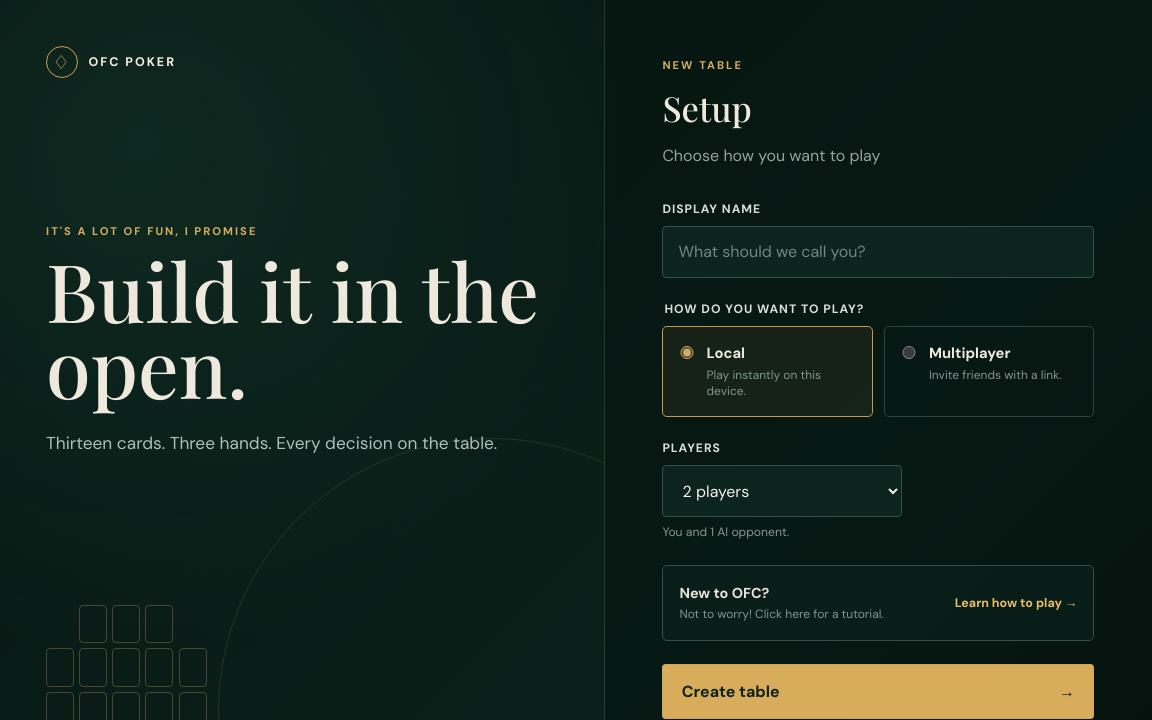
Test: creates a local AI lobby through explicit provider wiring
Type " Ada " into the field labelled "Display name" at (878, 252), box [662,226,1094,278]
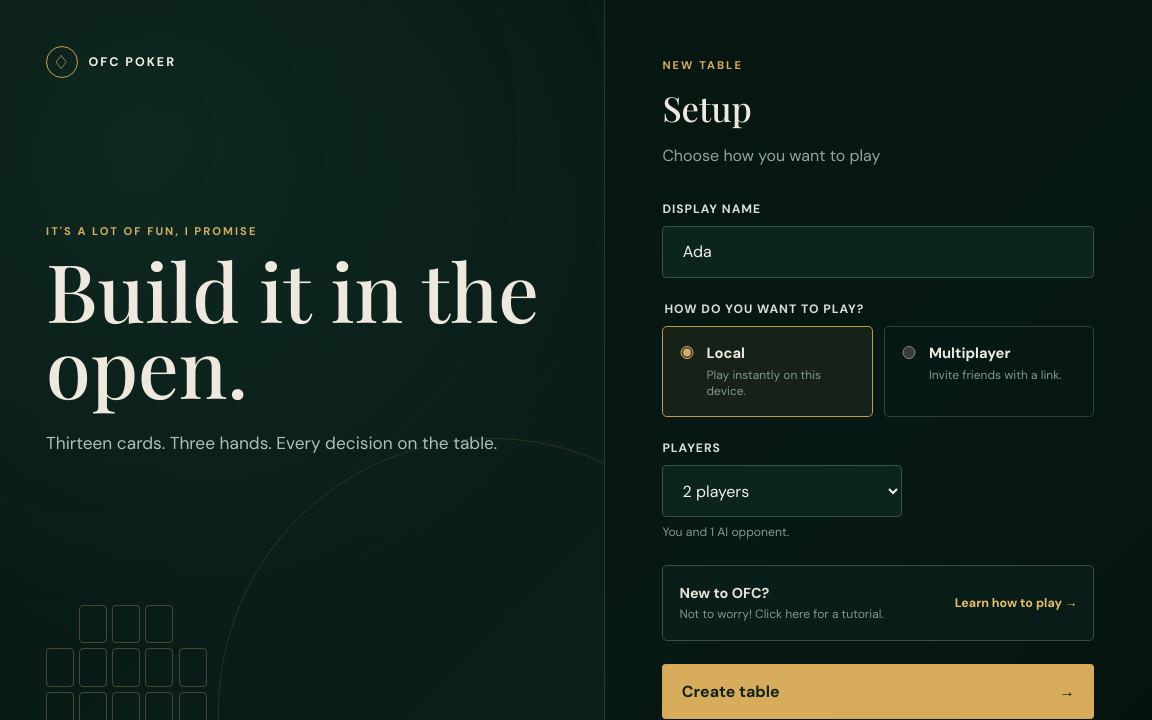
Select "4 players" in the dropdown labelled "Players" at (782, 491), box [662,465,902,517]
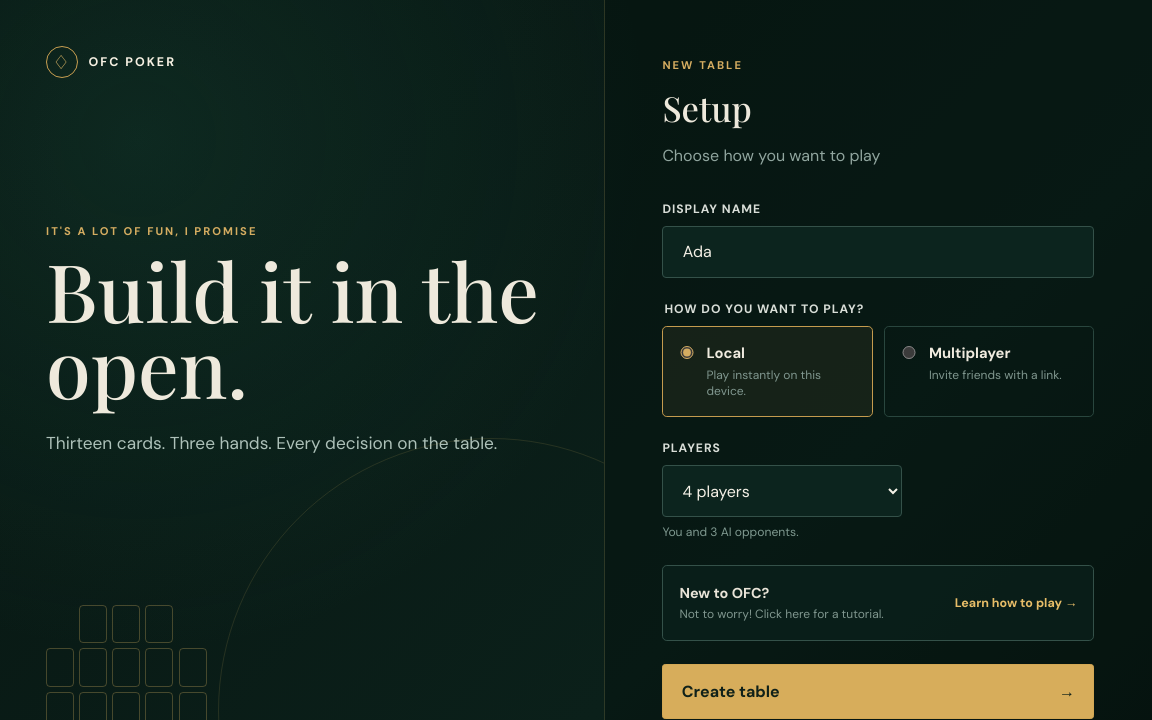
Click the button "Create table →" at (731, 692), box [662,664,1094,719]
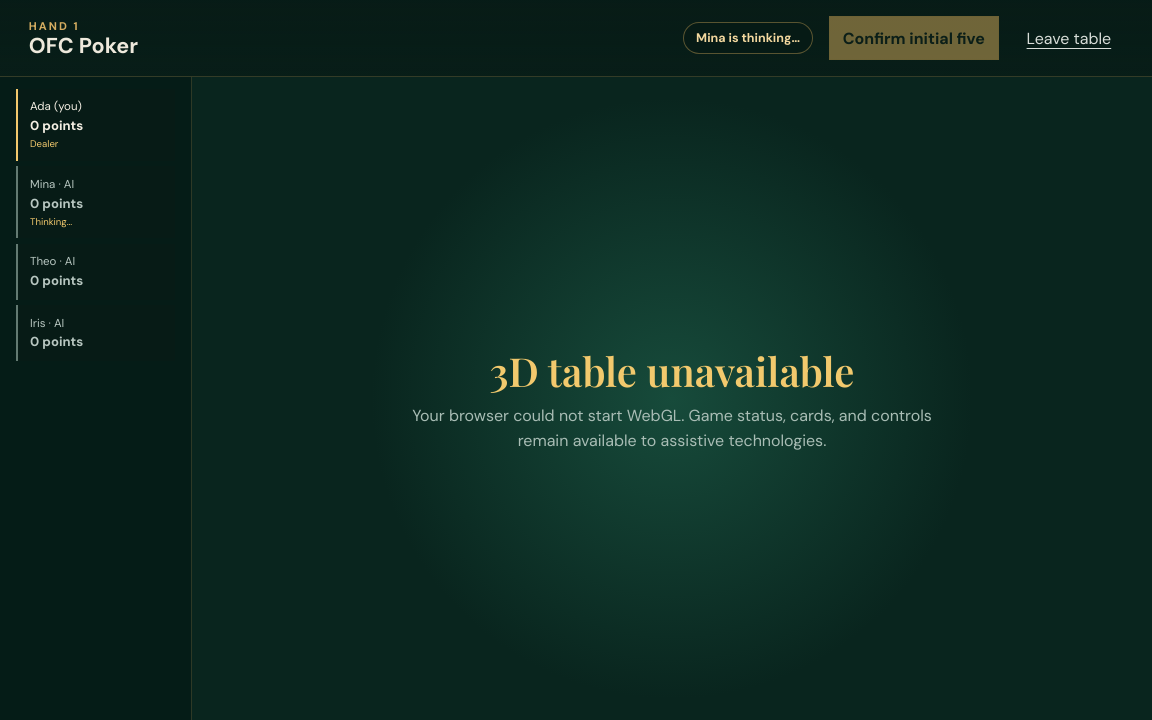
expect the text "You and 3 AI opponents." is gone: met
expect the element named "Scores" is shown: met, box [0,77,192,719]
expect the text "Mina · AI" is shown: met, box [30,177,74,192]
